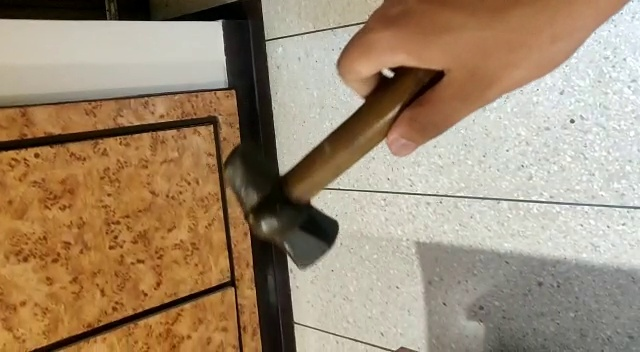hammer: (200, 66, 446, 272)
